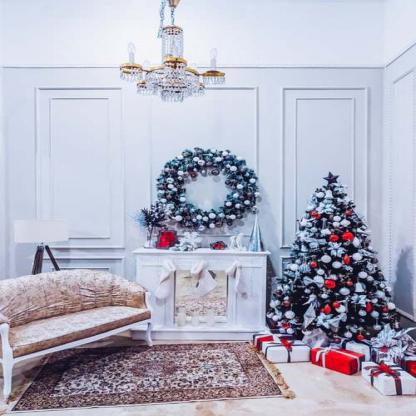present: (362, 362, 415, 398), (327, 342, 365, 373), (268, 342, 309, 364), (250, 330, 289, 348)
x_mas tree: (279, 155, 397, 344)
